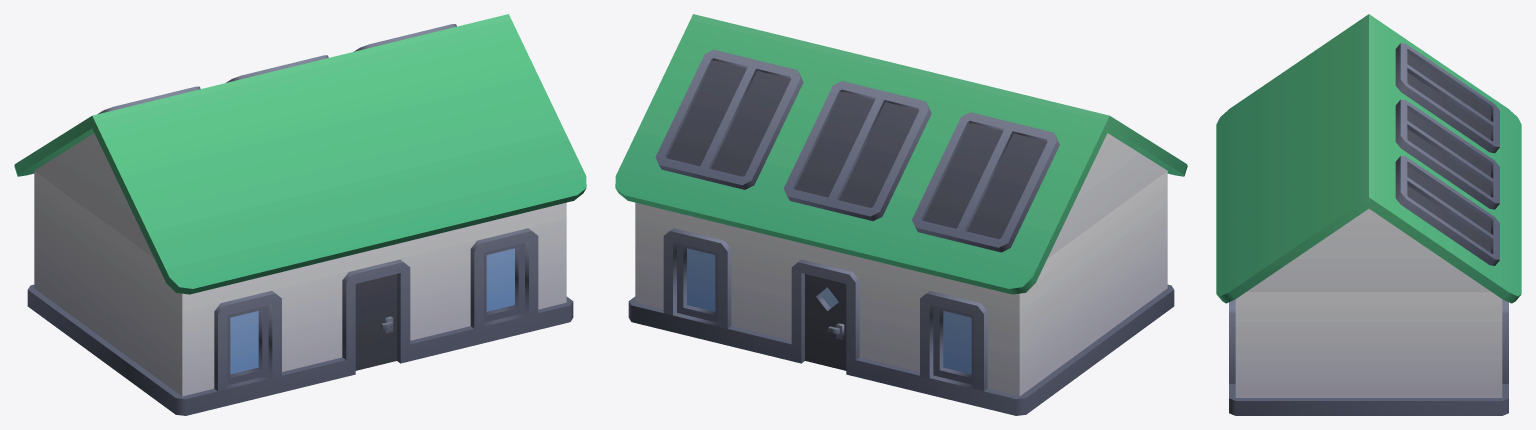
File: k-city-kit-suburban-building-type-h.glb
3 renders of one model, left to right at view 1: azimuth 30°, elevation 25°; view 2: azimuth 150°, elevation 25°; view 3: azimuth 270°, elevation 25°, orthographic. The views are drawn at different scales.
Parts seen in each view (by area): view 1: building-type-h; view 2: building-type-h; view 3: building-type-h.
Part boxes in pixels (bbox=[...]): building-type-h: bbox=[14, 14, 586, 415]; building-type-h: bbox=[615, 14, 1187, 415]; building-type-h: bbox=[1216, 14, 1521, 415].
Size of the model in its own units: 1.3 by 0.7375 by 0.9161.
1 material, 1 textured.
